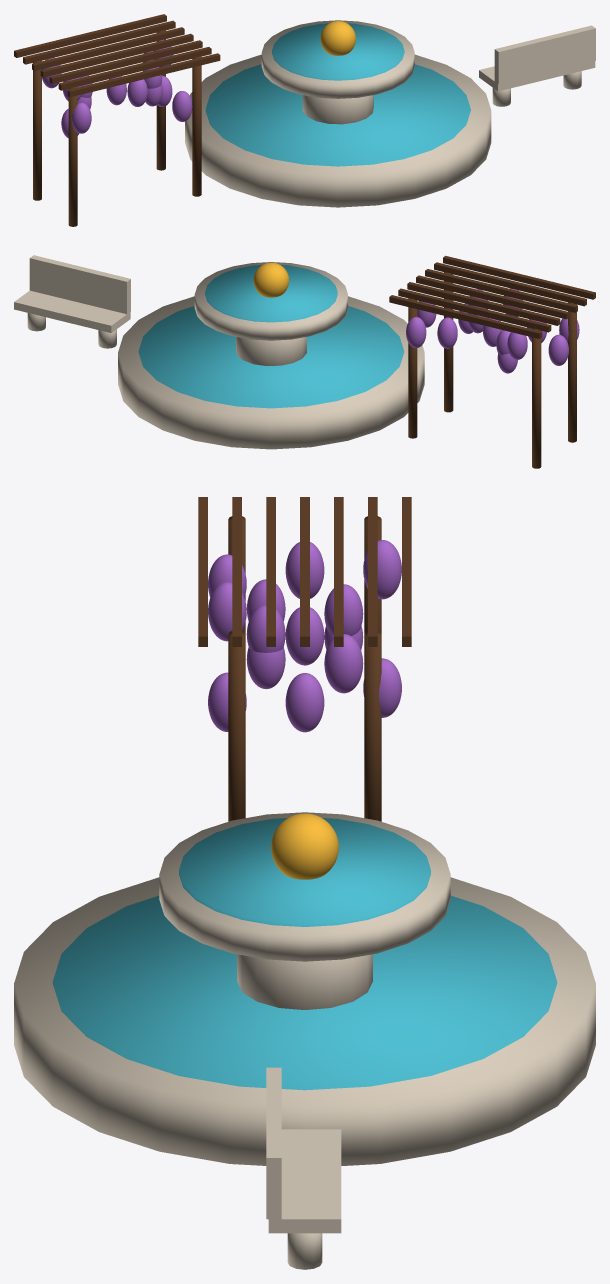
Rendered from garden.glb.
3 renders of one model, top to bottom at view 1: azimuth 30°, elevation 25°; view 2: azimuth 150°, elevation 25°; view 3: azimuth 270°, elevation 25°, orthographic. The views are drawn at different scales.
Visible parts, largest first — view 1: FountainWaterLower, FountainBasinOuter, FountainWaterUpper, FountainUpperBasin, BenchBack, FountainPedestal, ArchRafter_-3, ArchRafter_0, ArchRafter_-1, ArchRafter_3, ArchRafter_-2, ArchRafter_1 (+14 smaller); view 2: FountainWaterLower, FountainBasinOuter, FountainWaterUpper, FountainUpperBasin, BenchBack, BenchSeat, FountainPedestal, ArchRafter_1, ArchRafter_0, ArchRafter_3, ArchRafter_2, ArchRafter_-3 (+15 smaller); view 3: FountainWaterLower, FountainBasinOuter, FountainWaterUpper, FountainUpperBasin, BenchSeat, FountainPedestal, FountainFinial, ArchPost_1.4_-0.7, ArchPost_1.4_0.7, BenchBack, Wisteria_2, Wisteria_3 (+17 smaller).
Boxes of the visible parts, x1,y1,x2,y2 form: FountainWaterLower: (205, 64, 470, 166); FountainBasinOuter: (185, 54, 491, 207); FountainWaterUpper: (272, 23, 404, 80); FountainUpperBasin: (261, 20, 414, 98); BenchBack: (494, 25, 595, 84); FountainPedestal: (302, 95, 373, 124); ArchRafter_-3: (67, 53, 220, 97); ArchRafter_0: (40, 33, 193, 77); ArchRafter_-1: (49, 40, 202, 84); ArchRafter_3: (14, 14, 166, 57); ArchRafter_-2: (58, 47, 211, 90); ArchRafter_1: (32, 27, 184, 70); FountainWaterLower: (138, 306, 404, 408); FountainBasinOuter: (118, 296, 424, 449); FountainWaterUpper: (205, 265, 337, 322); FountainUpperBasin: (194, 262, 347, 340); BenchBack: (29, 255, 130, 314); BenchSeat: (14, 290, 130, 332); FountainPedestal: (236, 337, 306, 365); ArchRafter_1: (407, 282, 560, 325); ArchRafter_0: (416, 275, 569, 319); ArchRafter_3: (389, 295, 542, 338); ArchRafter_2: (398, 288, 551, 332); ArchRafter_-3: (443, 255, 595, 299); FountainWaterLower: (52, 895, 557, 1090); FountainBasinOuter: (14, 877, 595, 1165); FountainWaterUpper: (179, 818, 430, 926); FountainUpperBasin: (159, 812, 450, 961); BenchSeat: (268, 1129, 341, 1233); FountainPedestal: (237, 954, 372, 1009); FountainFinial: (271, 813, 338, 879); ArchPost_1.4_-0.7: (228, 631, 245, 821); ArchPost_1.4_0.7: (364, 631, 381, 821); BenchBack: (266, 1067, 281, 1219); Wisteria_2: (285, 673, 324, 732); Wisteria_3: (324, 634, 363, 693).
Size of the model in its own units: 12.3 by 3.11 by 6.
